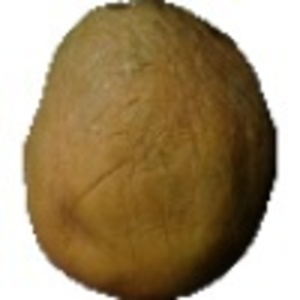mamão: (14, 3, 280, 294)
